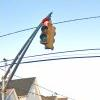traffic lights: (40, 16, 51, 45)
